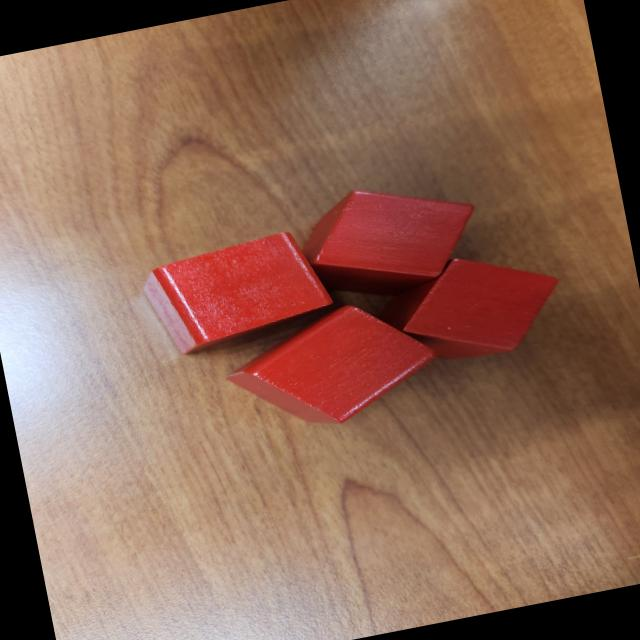red: (215, 288, 450, 444), (288, 168, 492, 310), (138, 224, 342, 364), (390, 240, 574, 374)
